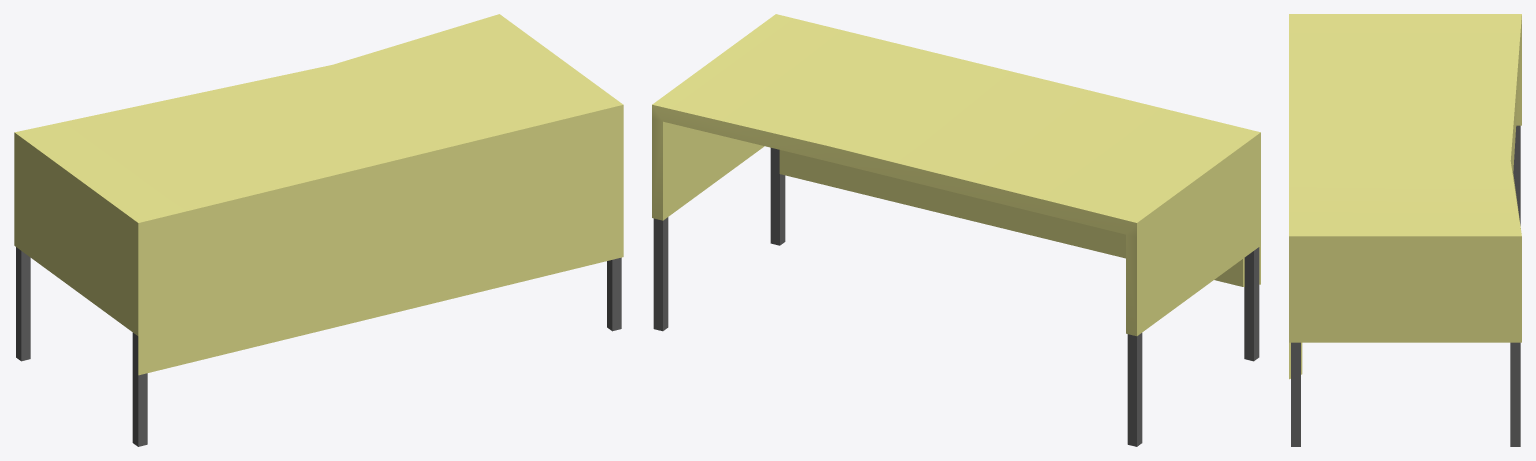
The model's file is DeskBank_02.fbx.
3 renders of one model, left to right at view 1: azimuth 30°, elevation 25°; view 2: azimuth 150°, elevation 25°; view 3: azimuth 270°, elevation 25°, orthographic. The views are drawn at different scales.
Parts seen in each view (by area): view 1: SM_Prop_Desk_02; view 2: SM_Prop_Desk_02; view 3: SM_Prop_Desk_02.
Part boxes in pixels (bbox=[...]): SM_Prop_Desk_02: bbox=[14, 14, 623, 446]; SM_Prop_Desk_02: bbox=[652, 14, 1260, 446]; SM_Prop_Desk_02: bbox=[1289, 14, 1521, 446].
Size of the model in its own units: 1.96 by 0.8667 by 0.8667.
